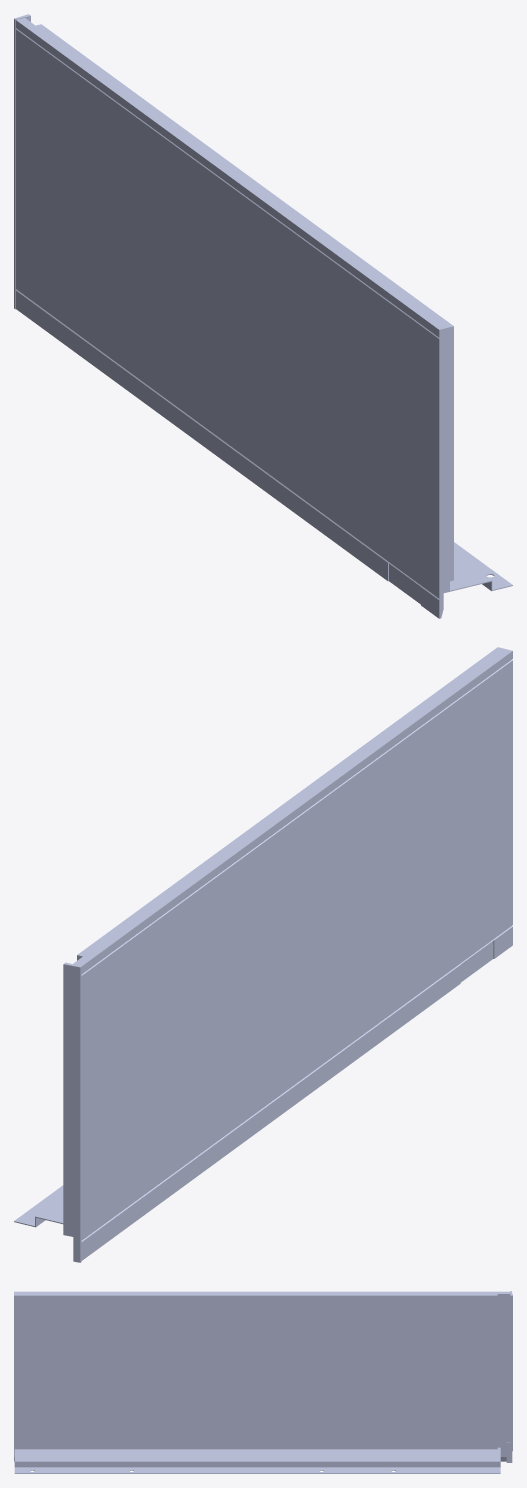
The model's file is lg-kava-F650-p.glb.
3 renders of one model, top to bottom at view 1: azimuth 30°, elevation 25°; view 2: azimuth 150°, elevation 25°; view 3: azimuth 270°, elevation 25°, orthographic. The views are drawn at different scales.
Parts seen in each view (by area): view 1: 46211380; view 2: 46211380; view 3: 46211380.
Boxes of the visible parts, x1=… form: 46211380: x1=14, y1=14, x2=512, y2=618; 46211380: x1=14, y1=647, x2=512, y2=1262; 46211380: x1=14, y1=1291, x2=512, y2=1473.
Bounding box in the file's own units: 0.0653 × 0.2417 × 0.6435.
